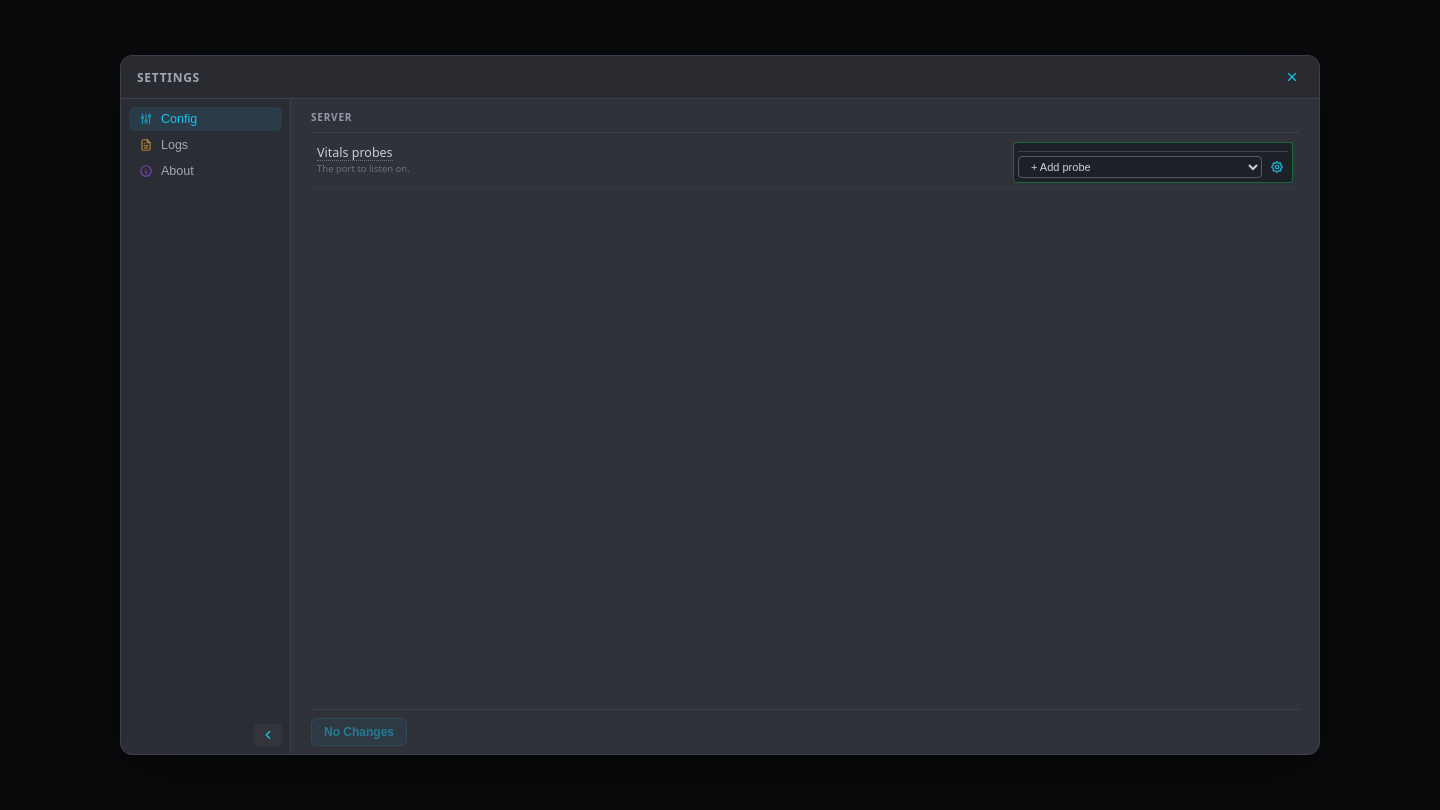
Test case: ConfigTab › closing the Manage probes dialog without submitting adds nothing
Expected: the text "Vitals probes" is shown, [317,145,393,161]
Click the button titled "Manage probes…".
click(1277, 167)  # box [1266,156,1288,178]
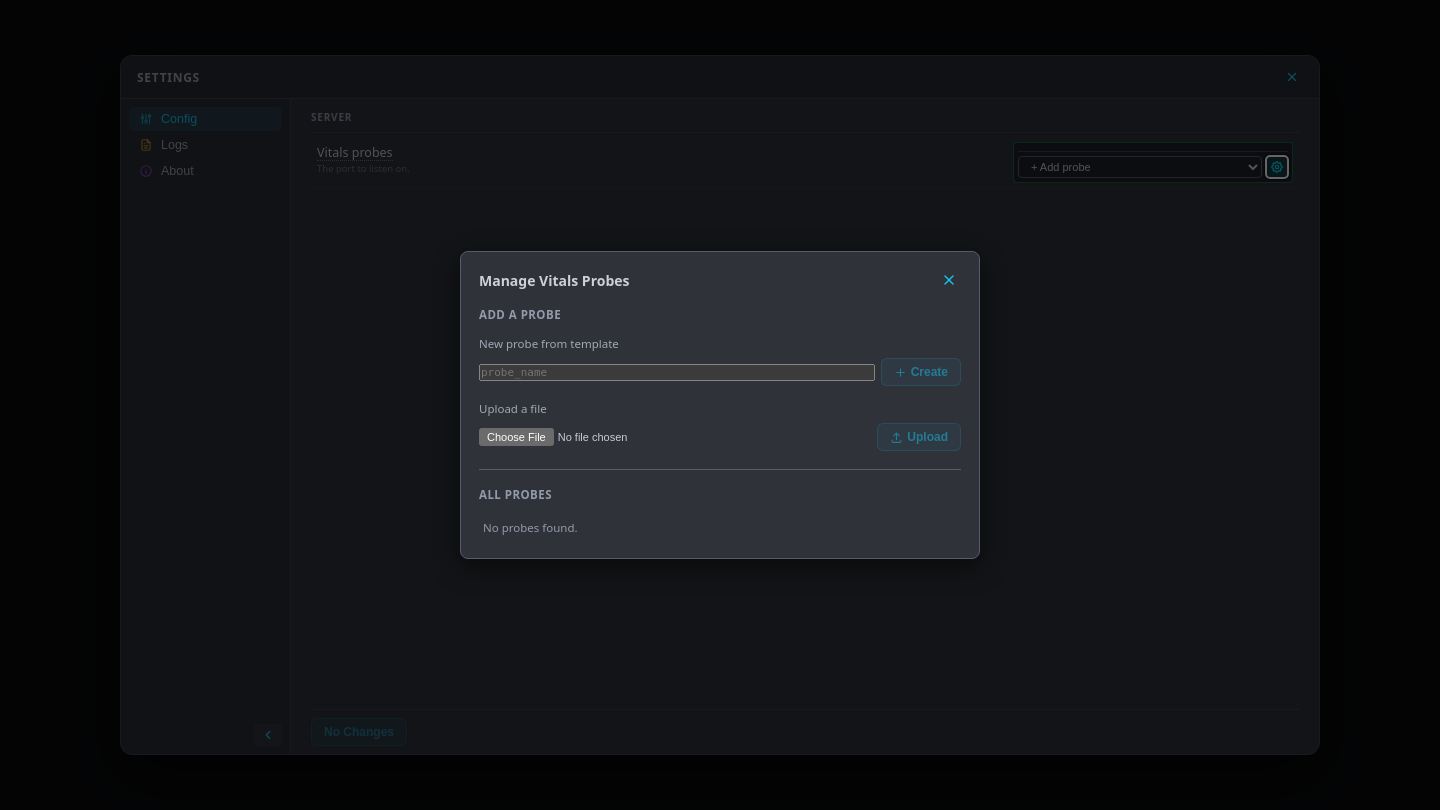
Type "my_probe" into the field with placeholder "probe_name".
click(677, 372); type("my_probe")  # box [479,364,875,380]
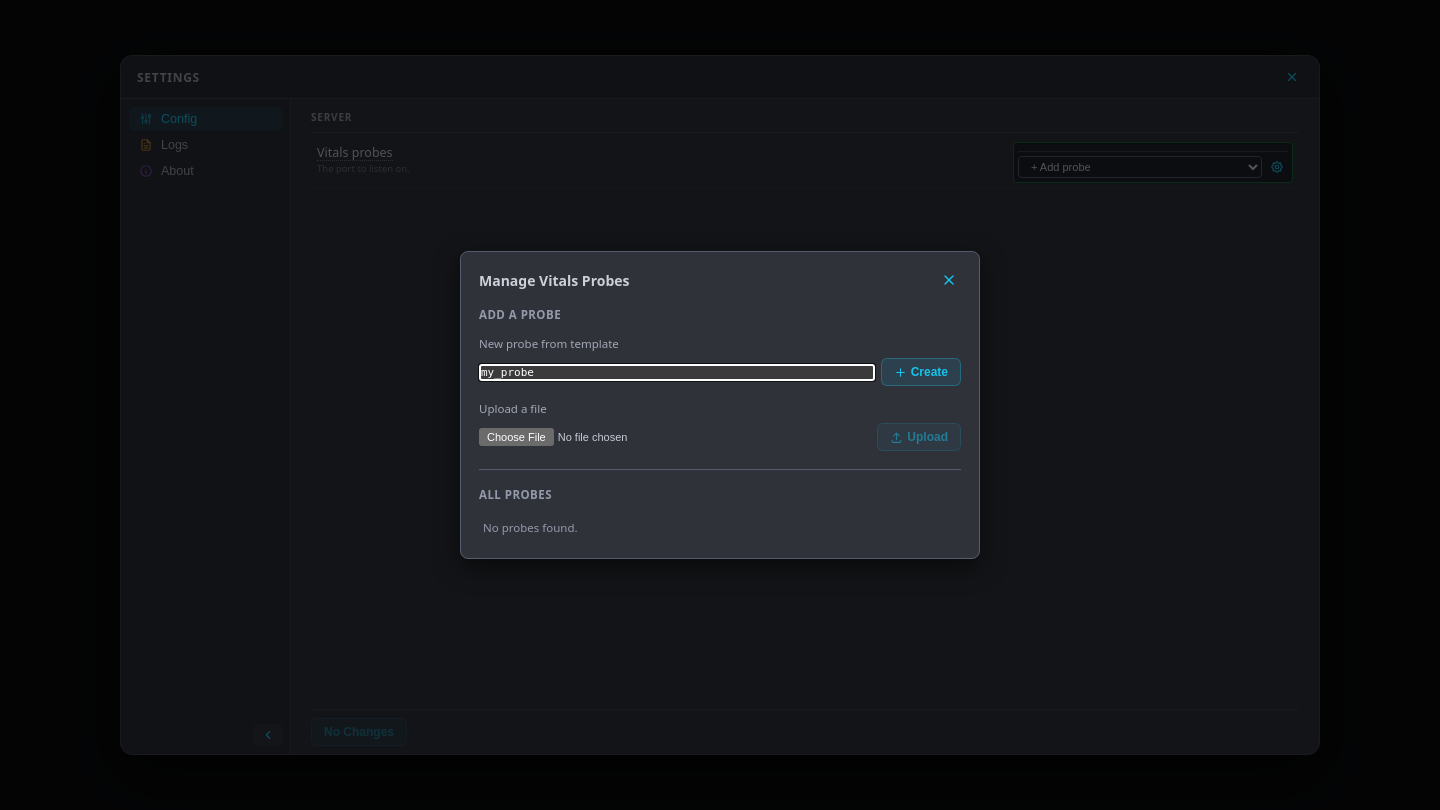
Click the button titled "Close".
click(949, 280)  # box [937,268,961,292]
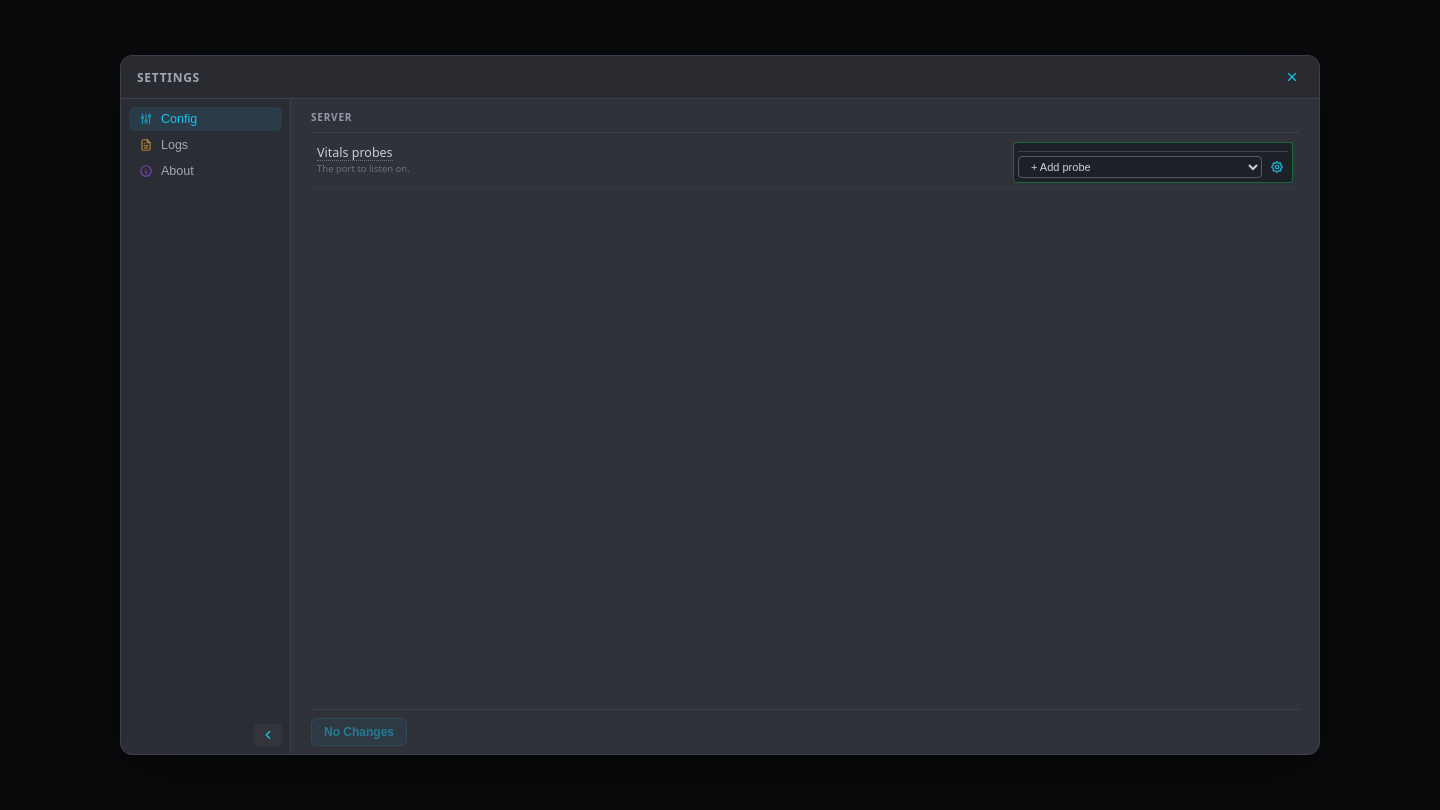
Expected: the button "No Changes" is disabled, [311,718,407,746]
Expected: the field with placeholder "probe_name" is gone
